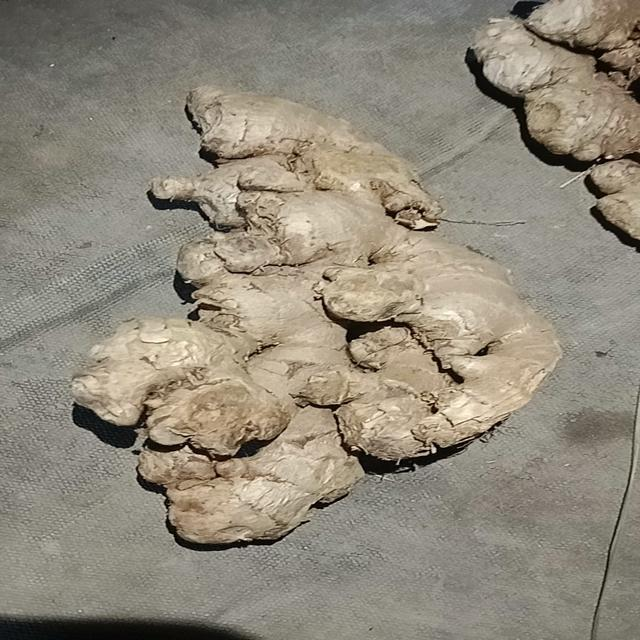ginger: (79, 326, 354, 546), (168, 86, 422, 282)
